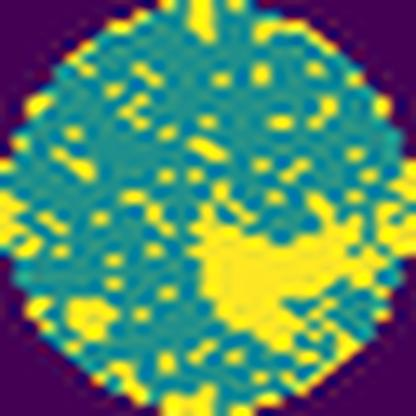Loc: (189, 185, 390, 360)
